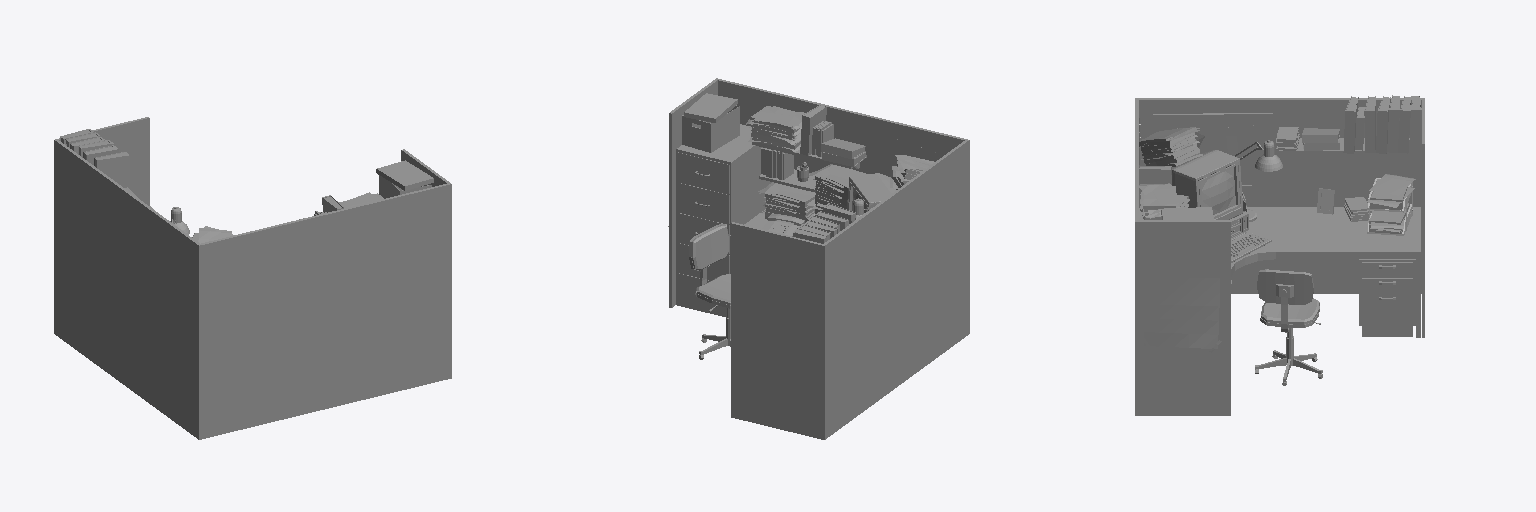
Rendered from clutered_desk.obj.
The picture shows the model from 3 angles: view 1: azimuth 30°, elevation 25°; view 2: azimuth 150°, elevation 25°; view 3: azimuth 270°, elevation 25°; orthographic projection.
Visible parts, largest first — view 1: Walls_Cube.139, Box02Cap_Cube.227, File06_Cube.145; view 2: Walls_Cube.139, FileStorage_Cube.143, Stool_Cube.133, PaperStack.003_Cube.024, Box02_Cube.226, PaperStack_Cube.020, PaperStack.002_Cube.023, Monitor_Cylinder:021_Cylinder:043, Box02Cap_Cube.227, PaperStack.006_Cube.028, Paper17_Cube.008, File04_Cube.036 (+3 smaller); view 3: Walls_Cube.139, Table_Plane.024, BigWallPaper_Cube.223, Drawer_Cube, Stool_Cube.133, Monitor_Cylinder:021_Cylinder:043, PinBoard_Cube.016, PaperStack.004_Cube.026, PaperStack.006_Cube.028, PaperStack.003_Cube.024, Paper15_Cube.006, Paper05_Cube.005 (+11 smaller).
Boxes of the visible parts, x1,y1,x2,y2 form: Walls_Cube.139: [54, 117, 451, 439]; Box02Cap_Cube.227: [376, 160, 433, 190]; File06_Cube.145: [94, 152, 129, 188]; Walls_Cube.139: [669, 78, 969, 439]; FileStorage_Cube.143: [676, 124, 771, 317]; Stool_Cube.133: [689, 224, 730, 359]; PaperStack.003_Cube.024: [746, 106, 804, 153]; Box02_Cube.226: [682, 105, 739, 152]; PaperStack_Cube.020: [758, 182, 815, 222]; PaperStack.002_Cube.023: [809, 164, 867, 208]; Monitor_Cylinder:021_Cylinder:043: [847, 173, 895, 212]; Box02Cap_Cube.227: [684, 93, 737, 122]; PaperStack.006_Cube.028: [890, 155, 934, 189]; Paper17_Cube.008: [883, 132, 912, 177]; File04_Cube.036: [800, 105, 826, 155]; Walls_Cube.139: [1135, 98, 1424, 415]; Table_Plane.024: [1231, 207, 1420, 337]; BigWallPaper_Cube.223: [1142, 245, 1224, 352]; Drawer_Cube: [1359, 259, 1415, 336]; Stool_Cube.133: [1255, 269, 1322, 385]; Monitor_Cylinder:021_Cylinder:043: [1172, 150, 1242, 219]; PinBoard_Cube.016: [1153, 113, 1272, 187]; PaperStack.004_Cube.026: [1367, 174, 1415, 233]; PaperStack.006_Cube.028: [1139, 127, 1202, 166]; PaperStack.003_Cube.024: [1139, 183, 1180, 219]; Paper15_Cube.006: [1202, 121, 1240, 165]; Paper05_Cube.005: [1237, 121, 1267, 162].
Bounding box in the file's own units: 10.48 × 7.72 × 10.21.